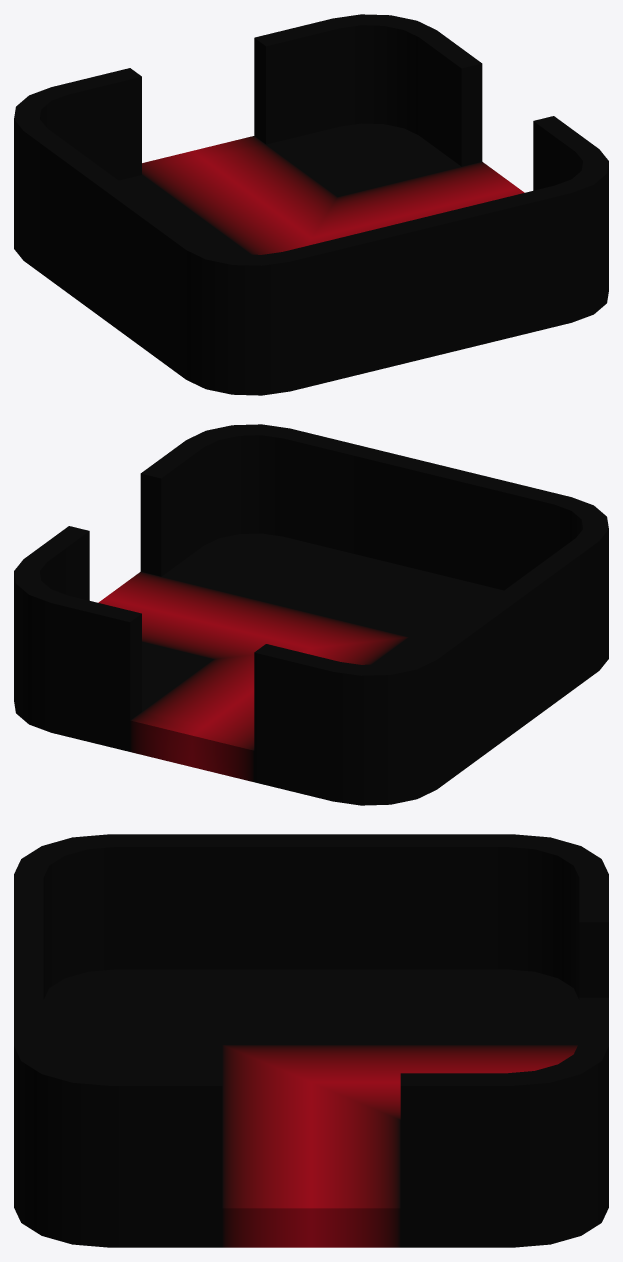
File: Tile_Turn.fbx
The picture shows the model from 3 angles, top to bottom: view 1: azimuth 30°, elevation 25°; view 2: azimuth 150°, elevation 25°; view 3: azimuth 270°, elevation 25°; orthographic projection. The views are drawn at different scales.
Visible parts, largest first — view 1: An_room; view 2: An_room; view 3: An_room.
Part boxes in pixels (x1,y1,x2,y2): An_room: (14, 14, 608, 395); An_room: (14, 424, 608, 805); An_room: (14, 834, 608, 1247).
Bounding box in the file's own units: 100 × 30 × 100.
